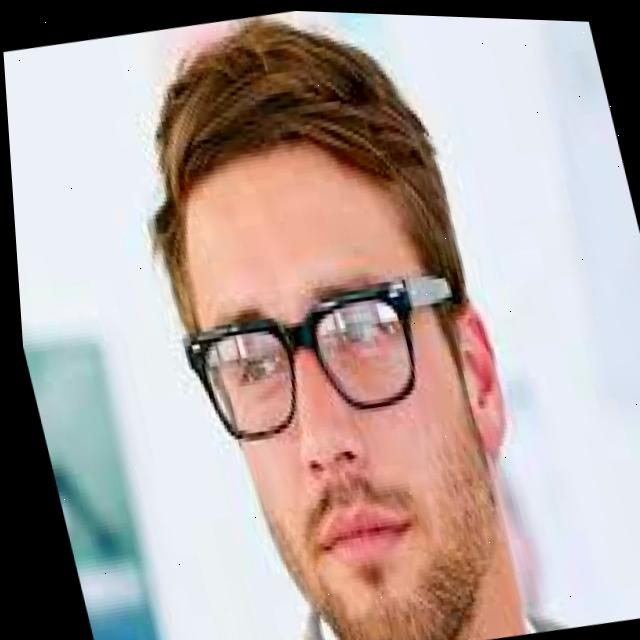natural: (149, 71, 539, 640)
